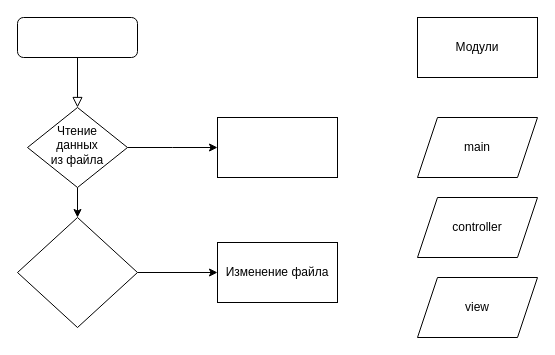
Some shapes in this 555 by 355 pixel diagram are drawn without their labels. The shapes that lost their labels are listed below. From the top down, each one's centre as x and y in pixels, then its label:
At (x=77, y=37): "Файл с базой данных".
At (x=277, y=147): "Вывод соответствующих значений".
At (x=77, y=272): "Запись данных в файл".
